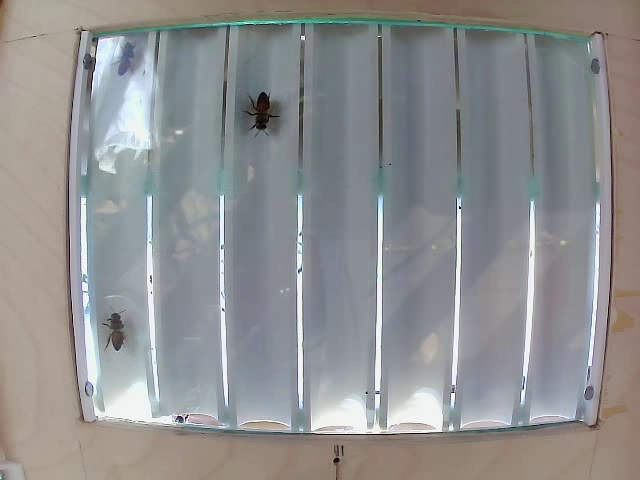bee: (244, 86, 292, 151), (113, 38, 154, 89), (99, 314, 135, 356)
